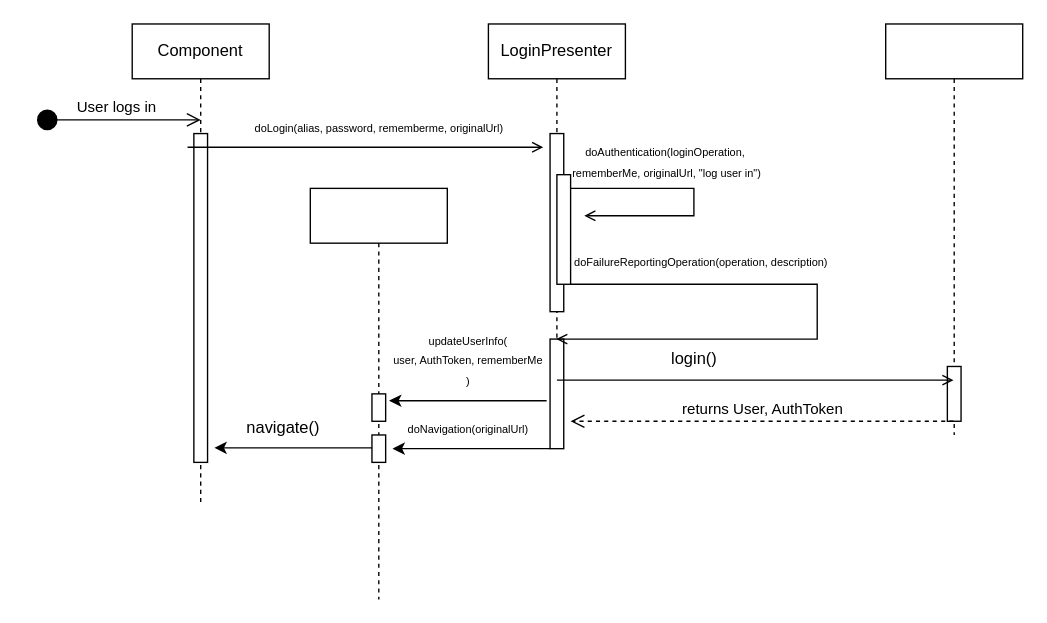
Image size: 1047x623. Some labels were removed from this diagram. Here are the shapes that lost their labels. From the top down, the box of each, then its label:
(884, 23, 1023, 435): UserService
(309, 187, 447, 599): AuthView
